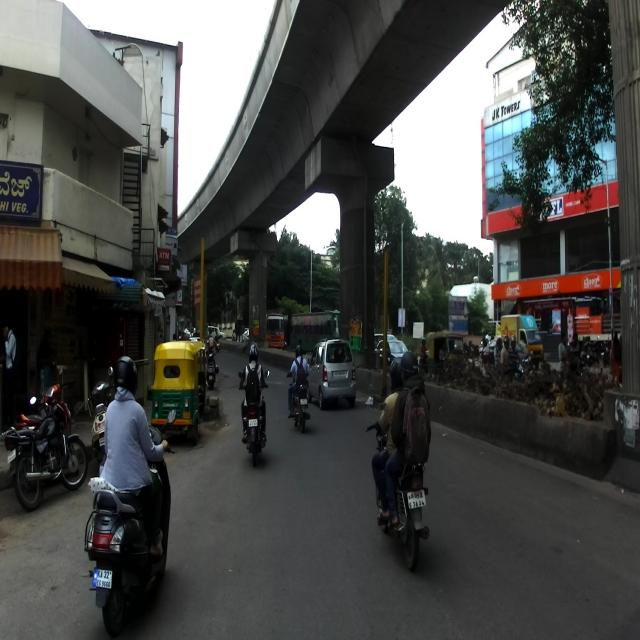Car_Maruti-Suzuki: (305, 334, 357, 414)
autorickshaw: (150, 340, 210, 445)
motorcycle_Hero: (0, 394, 89, 510), (364, 420, 430, 571), (286, 362, 311, 434)
motorcycle_Honda: (238, 367, 270, 466)
scooter: (81, 407, 177, 636), (12, 364, 72, 473), (87, 366, 115, 464)
